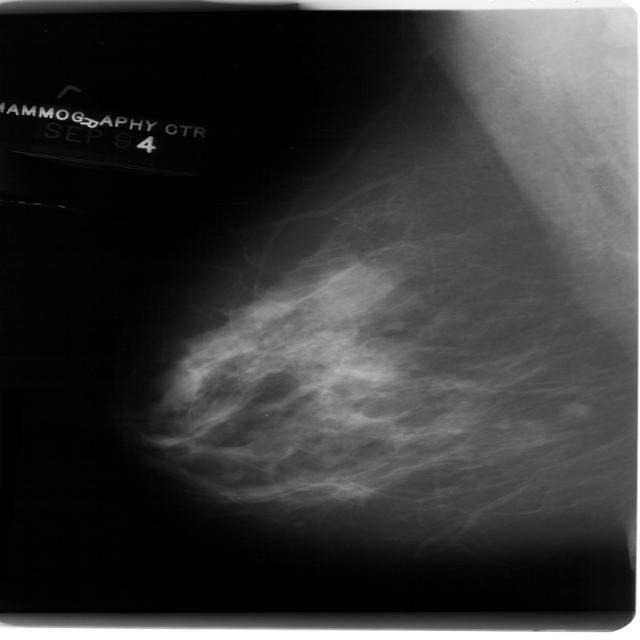tumour: (563, 401, 592, 418)
